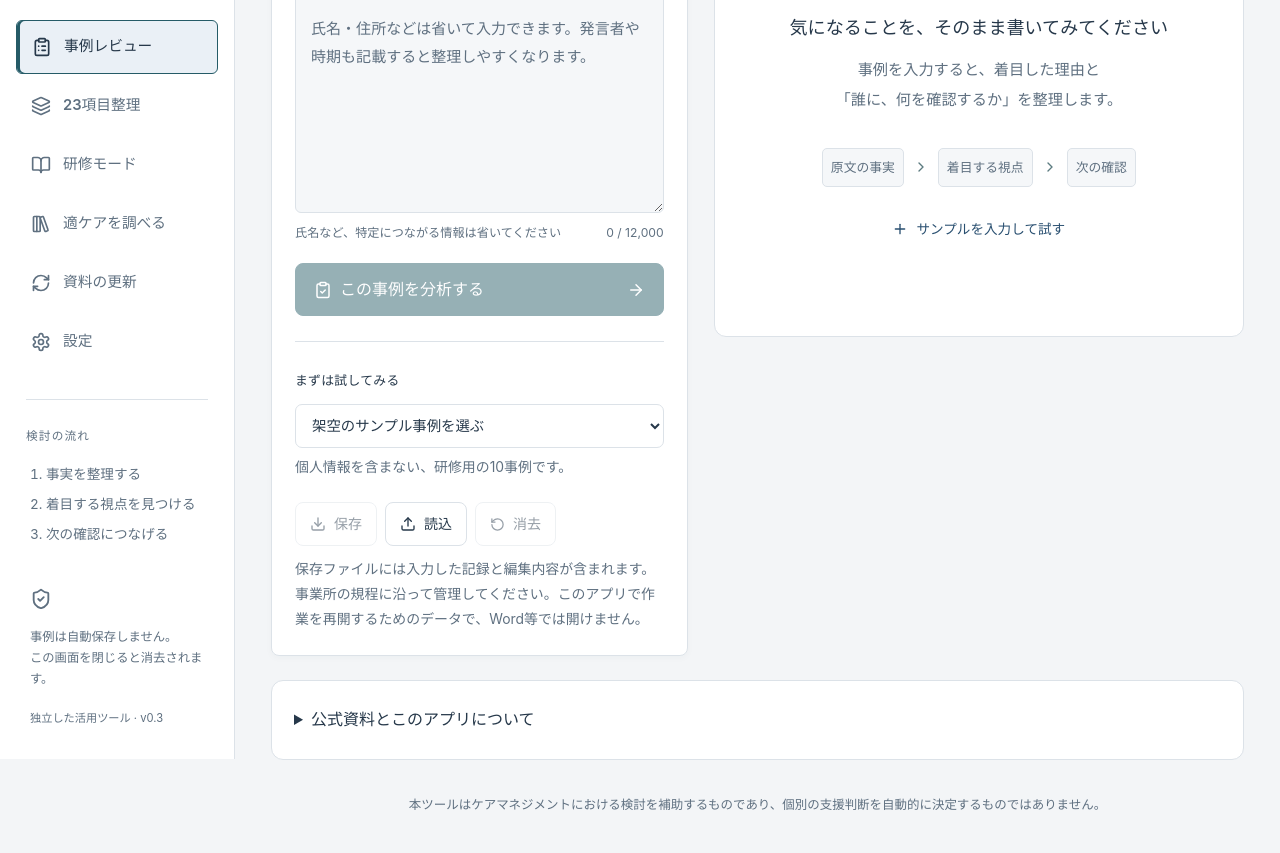
サンプルを読んで設定・分類へ移動できる
(page scrolled)
Expected: the button "この事例を分析する" is disabled, [295, 263, 664, 316]
Select "転倒と暮らしの変化" in the dropdown named "架空事例を選択" at (479, 426), box [295, 404, 664, 448]
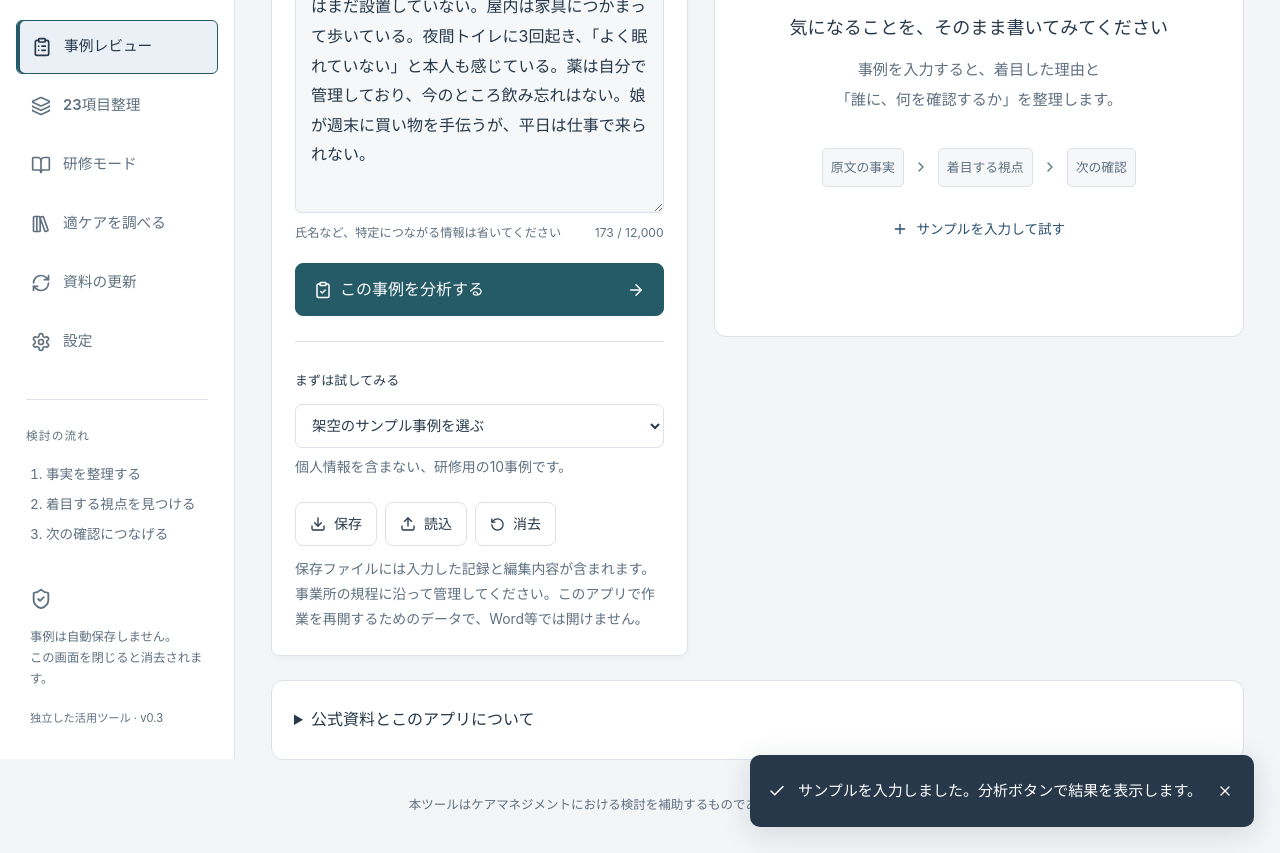
Expected: the button "この事例を分析する" is enabled, [295, 263, 664, 316]
Click the button "23項目整理" at (117, 106), box [16, 79, 218, 133]
(page scrolled)
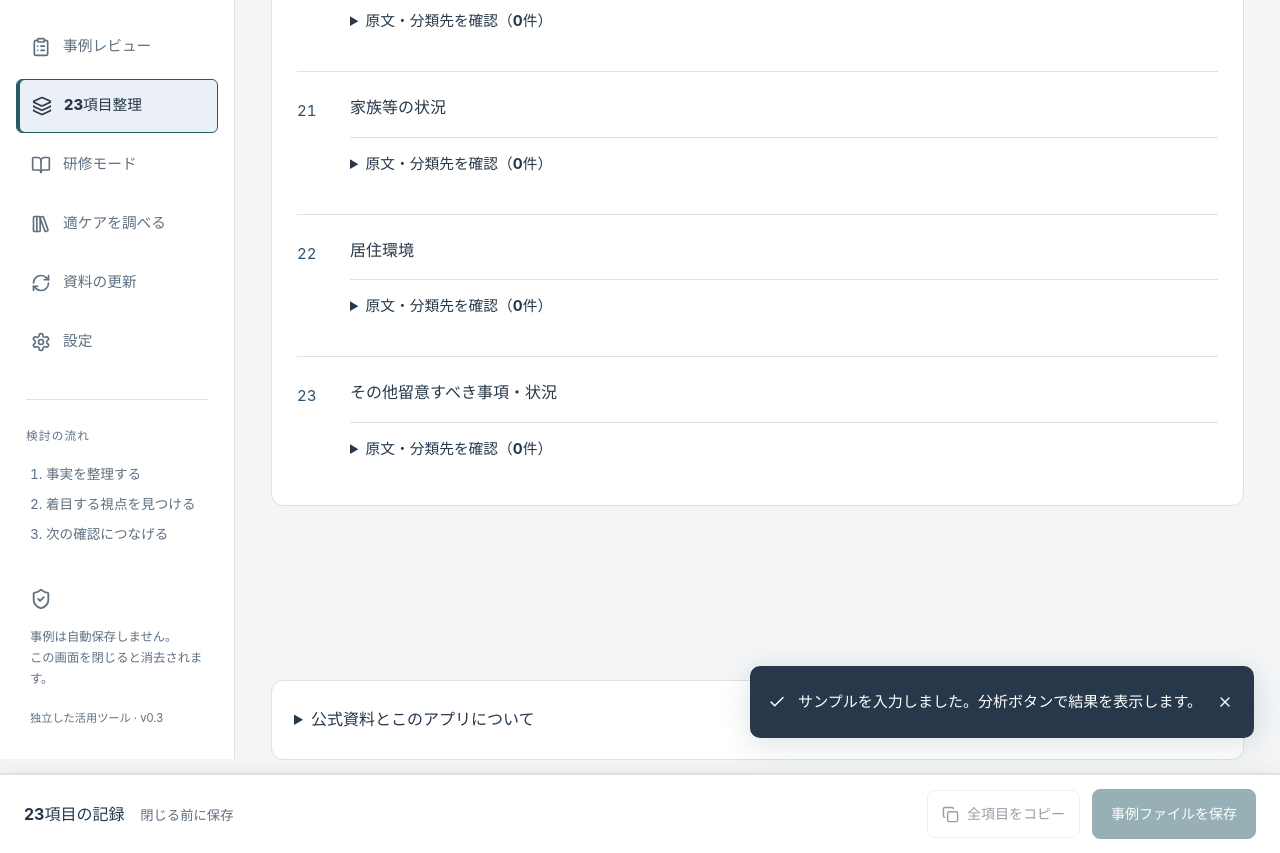
Click the button "設定" at (117, 342), box [16, 315, 218, 369]
(page scrolled)
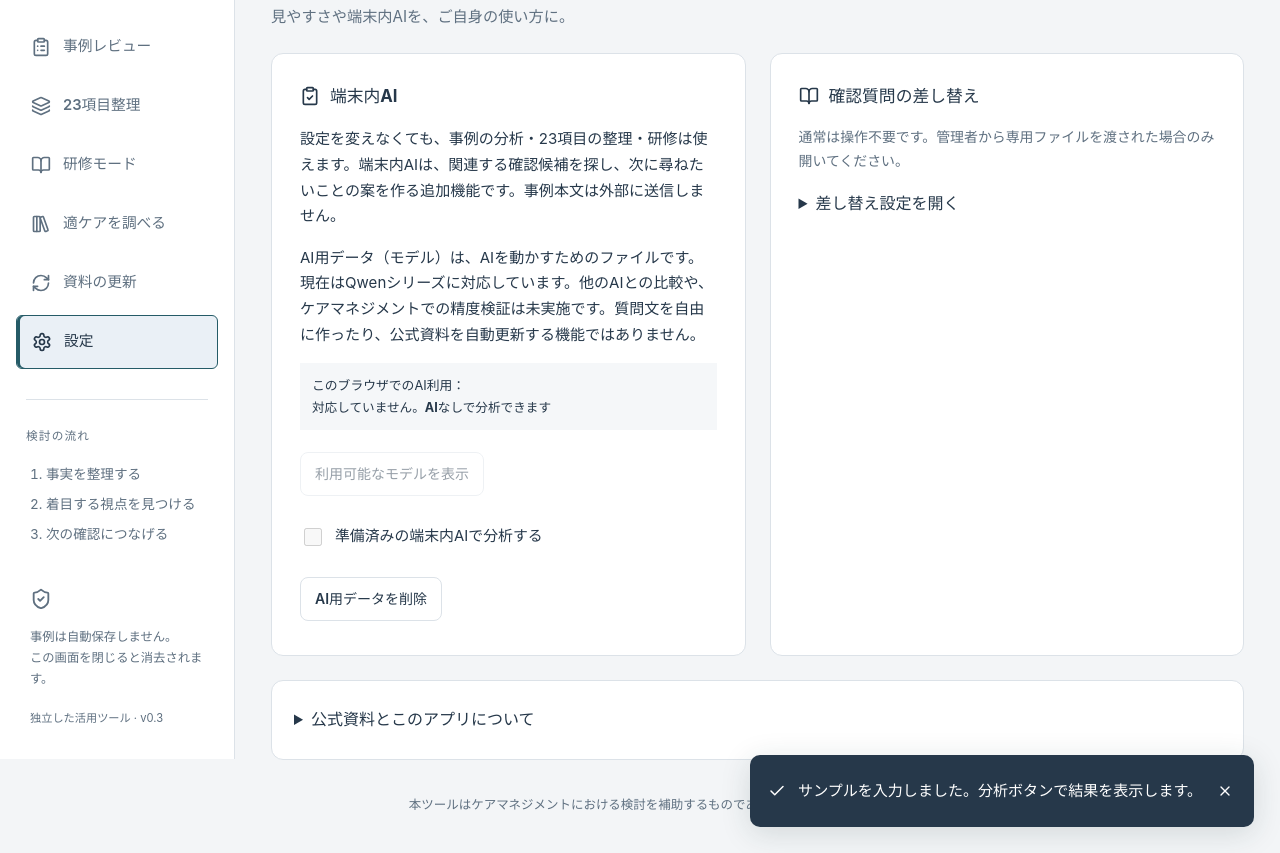
Expected: the heading "確認質問の差し替え" is shown, [798, 86, 980, 106]
